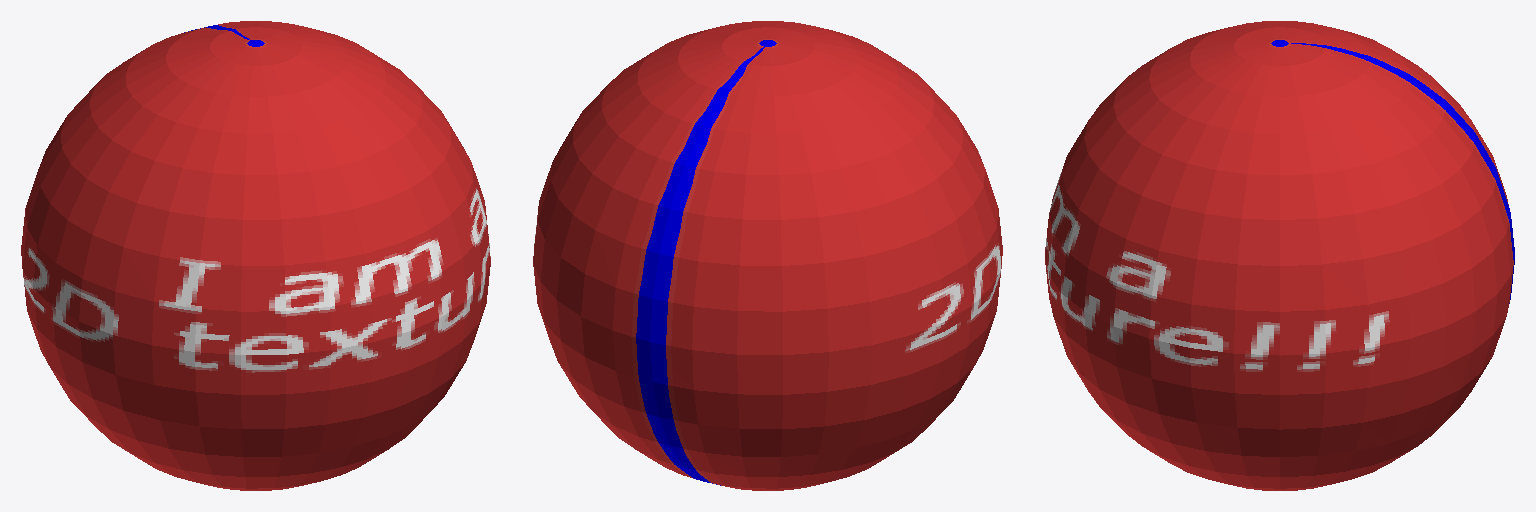
3 views of the same model, side by side, from view 1: azimuth 30°, elevation 25°; view 2: azimuth 150°, elevation 25°; view 3: azimuth 270°, elevation 25° (orthographic).
Parts seen in each view (by area): view 1: Sphere001; view 2: Sphere001; view 3: Sphere001.
Part boxes in pixels (x1,y1,x2,y2): Sphere001: (21,21,490,490); Sphere001: (533,21,1002,490); Sphere001: (1045,21,1514,490).
Size of the model in its own units: 2 by 2 by 2.
1 materials, 1 textured.